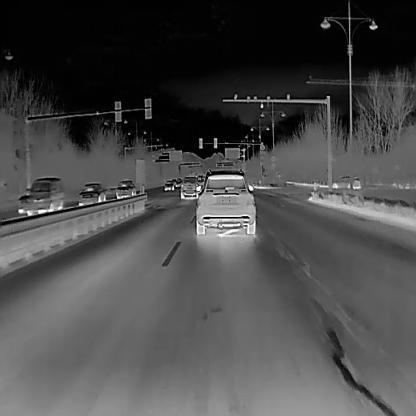car: (193, 167, 255, 235), (25, 175, 63, 215), (77, 182, 107, 205), (331, 174, 361, 189), (179, 177, 199, 199), (115, 179, 136, 198), (17, 187, 30, 213), (163, 179, 174, 190), (174, 177, 182, 187)
